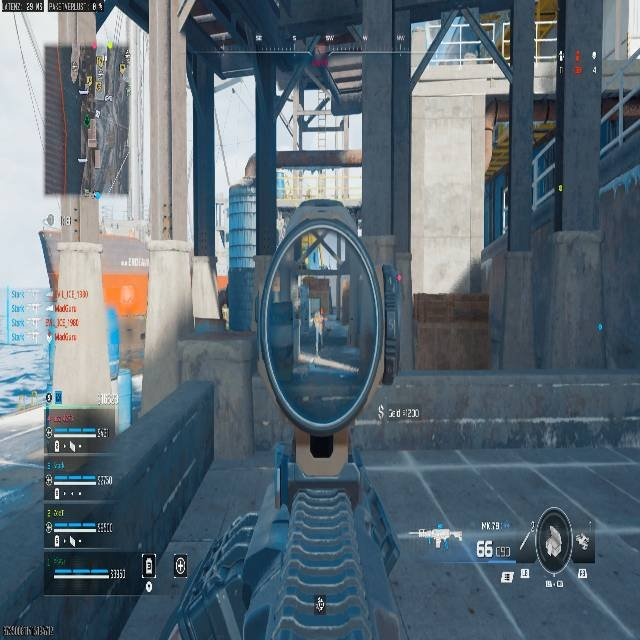player: (117, 360, 145, 425), (315, 309, 326, 333)
